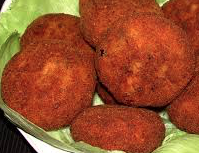cutlet: (101, 12, 196, 108), (3, 48, 93, 124), (70, 104, 171, 151), (20, 10, 91, 52)
